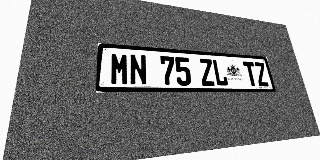5: (175, 57, 192, 86)
7: (159, 56, 177, 86)
L: (212, 59, 229, 86)
M: (110, 53, 129, 85)
N: (129, 54, 148, 85)
T: (243, 61, 259, 86)
Z: (198, 58, 216, 86), (253, 62, 270, 86)
